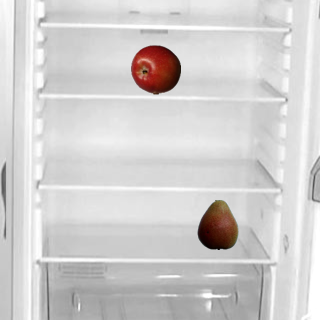Apple Braeburn: (130, 44, 180, 94)
Pear Forelle: (192, 199, 242, 249)
